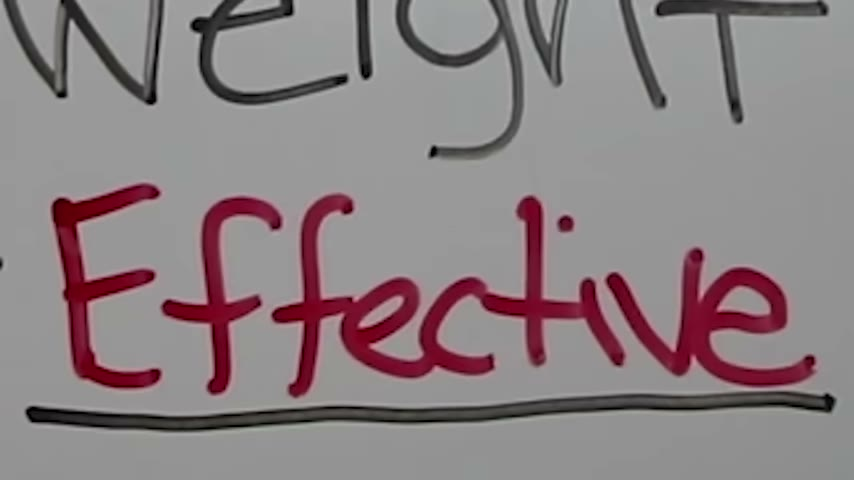barbell_plate_side: (720, 233, 843, 433), (726, 0, 840, 130), (185, 0, 287, 117)
